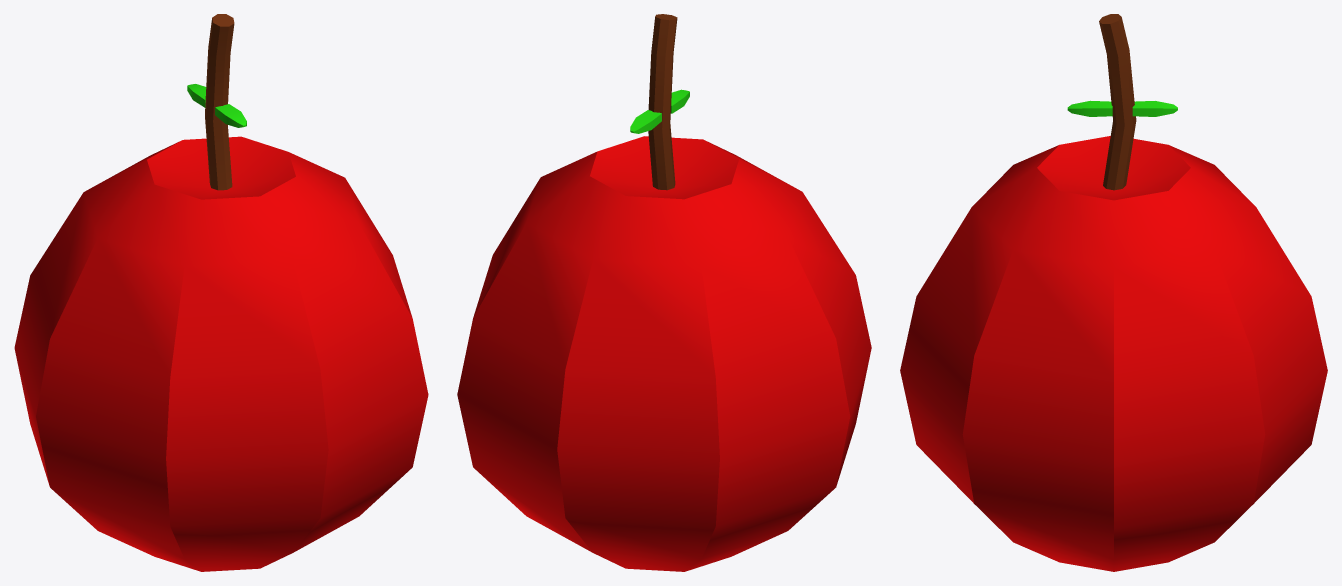
File: I_Fruit_1.fbx
The picture shows the model from 3 angles, left to right: view 1: azimuth 30°, elevation 25°; view 2: azimuth 150°, elevation 25°; view 3: azimuth 270°, elevation 25°; orthographic projection.
Visible parts, largest first — view 1: Sphere; view 2: Sphere; view 3: Sphere.
Boxes of the visible parts, <box> form: Sphere: <box>14,14,428,571</box>; Sphere: <box>457,14,871,571</box>; Sphere: <box>900,14,1327,571</box>.
Size of the model in its own units: 13.86 by 19.18 by 13.86.
